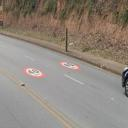speed_limit_40: (59, 60, 81, 72), (24, 67, 46, 78)
